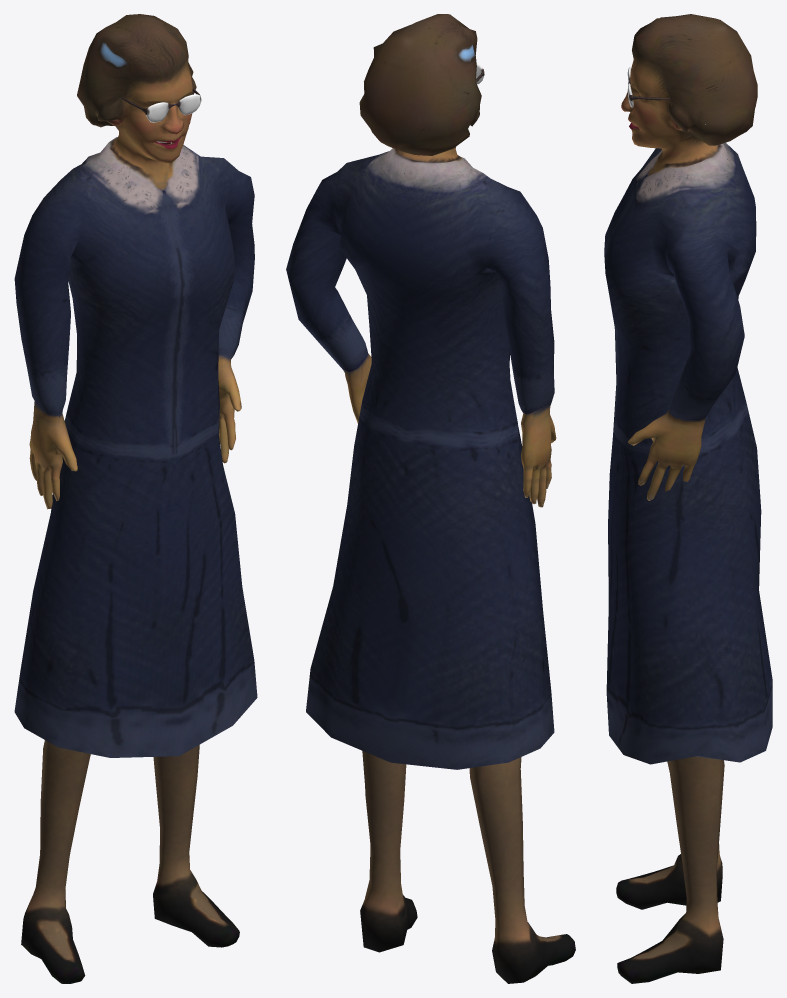
File: Minnie_Pose.fbx
The picture shows the model from 3 angles, left to right: view 1: azimuth 30°, elevation 25°; view 2: azimuth 150°, elevation 25°; view 3: azimuth 270°, elevation 25°; orthographic projection.
Visible parts, largest first — view 1: Minnie_Becker1, Glasses; view 2: Minnie_Becker1; view 3: Minnie_Becker1.
Boxes of the visible parts, x1=… form: Minnie_Becker1: x1=14, y1=14, x2=257, y2=983; Glasses: x1=121, y1=87, x2=201, y2=122; Minnie_Becker1: x1=286, y1=14, x2=575, y2=983; Minnie_Becker1: x1=604, y1=14, x2=772, y2=983.
Bounding box in the file's own units: 0.5267 × 1.92 × 0.3126.
